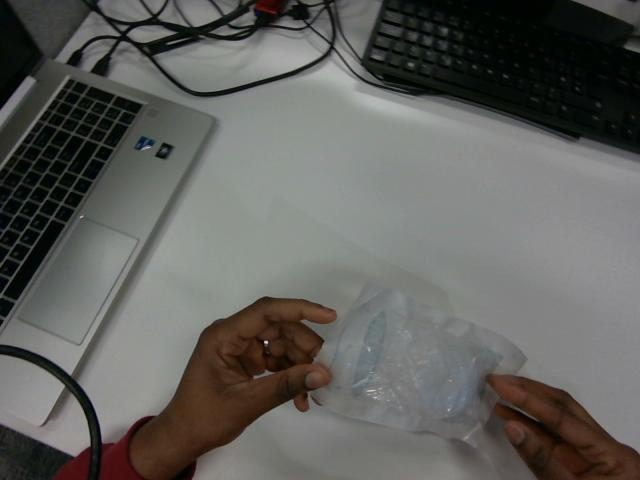gallipot: (312, 284, 525, 444)
